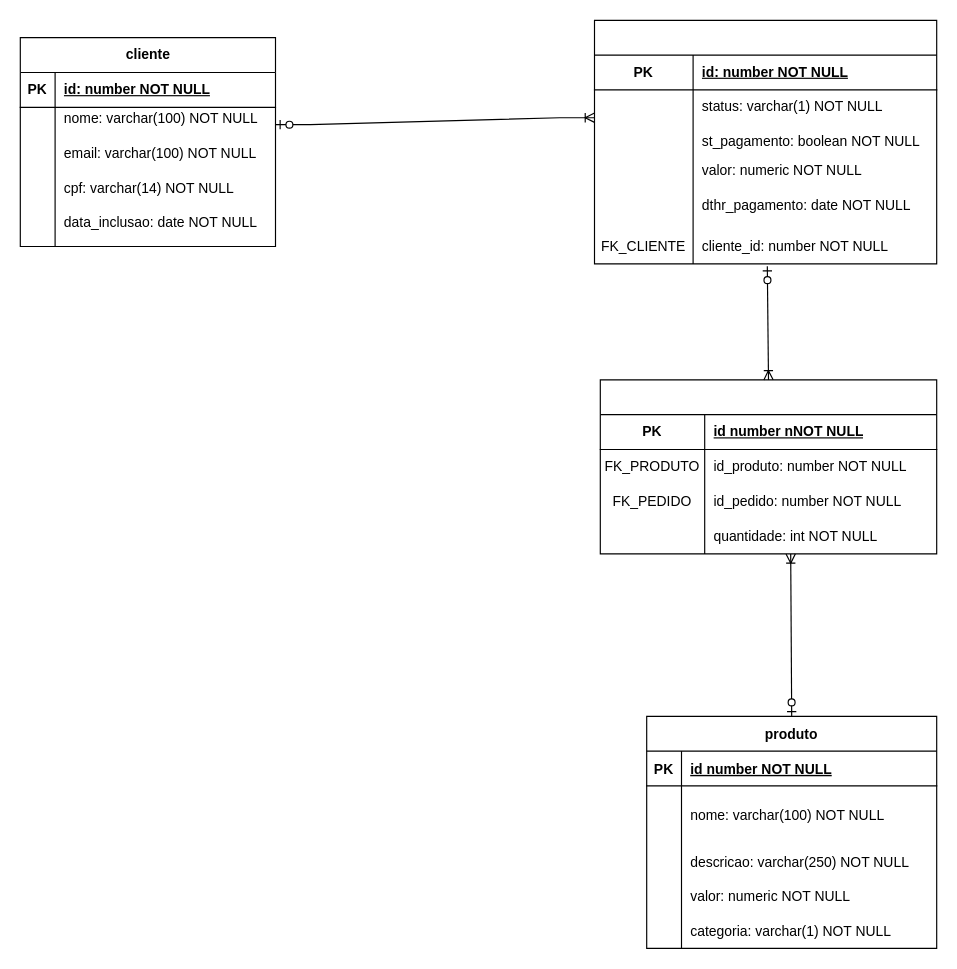
The diagram is 957 pixels wide and 969 high, and some of its shapes have lost their labels. Each missing label, with the box of its shape:
item_pedido: (599, 379, 937, 554)
pedido: (593, 19, 937, 264)
